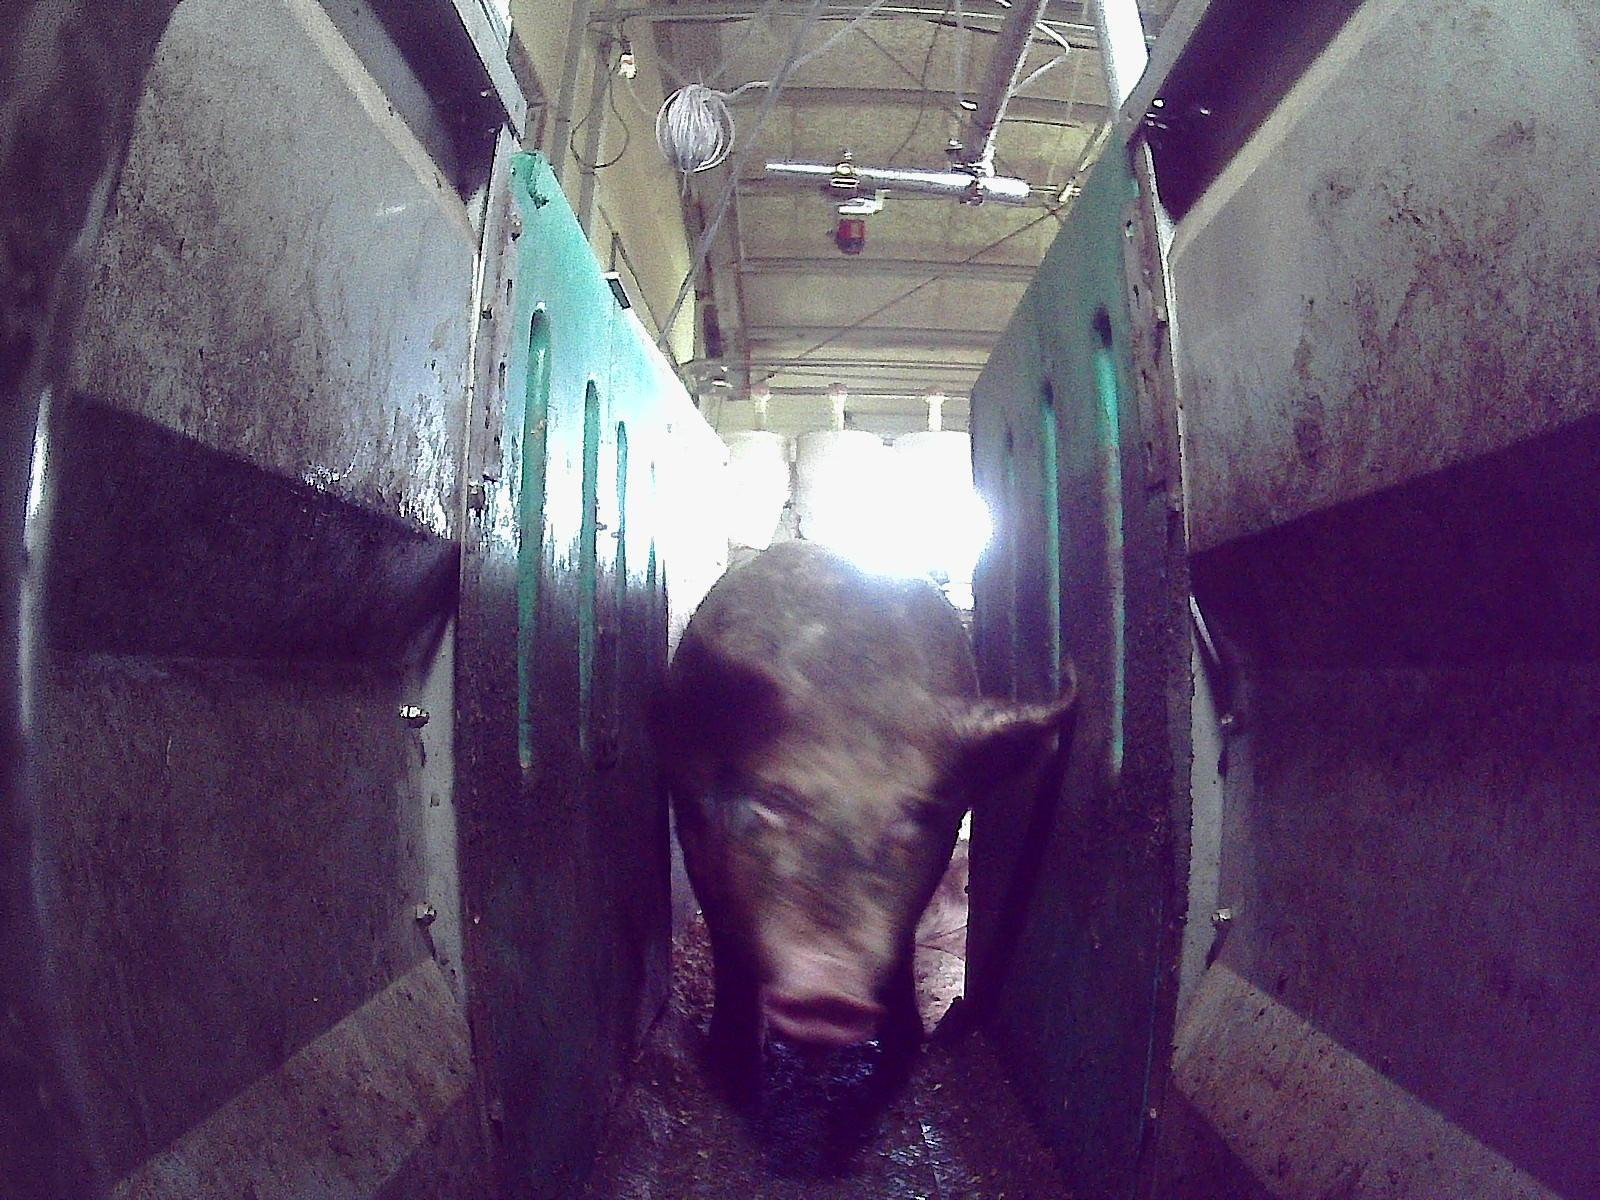Face: (713, 702, 959, 1048)
